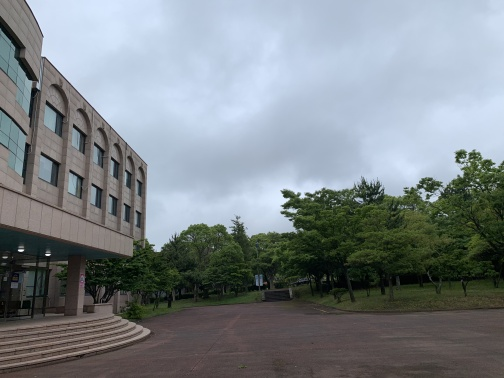Natural Science2: (1, 2, 153, 364)
